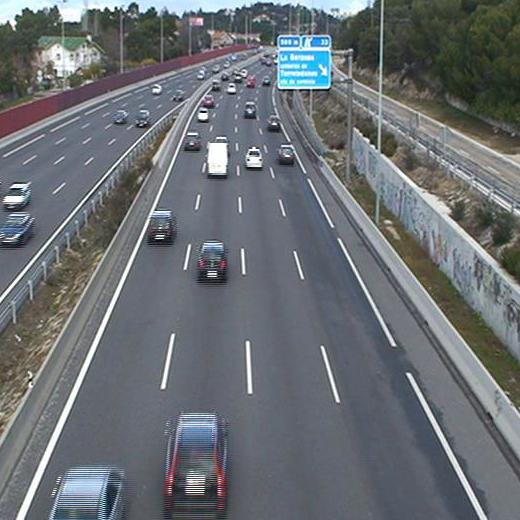car: (167, 411, 227, 506), (46, 471, 125, 520), (196, 245, 226, 282), (148, 209, 176, 245), (245, 147, 263, 170), (277, 145, 296, 164), (184, 133, 200, 150), (243, 102, 257, 120), (267, 114, 281, 132), (197, 109, 209, 124), (203, 93, 213, 108)
van: (207, 142, 229, 176)
